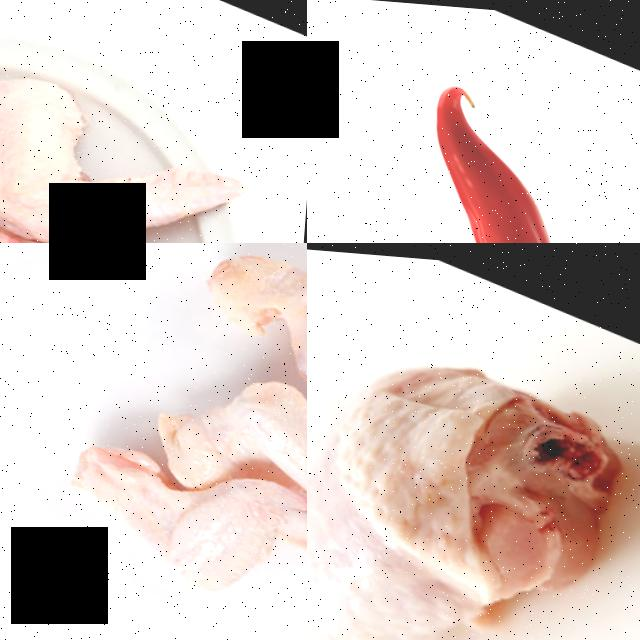chicken thigh: (307, 266, 640, 640)
chicken wing: (41, 406, 307, 640), (0, 43, 265, 243), (155, 320, 307, 549), (172, 243, 307, 442)
chilli: (307, 61, 640, 243)
